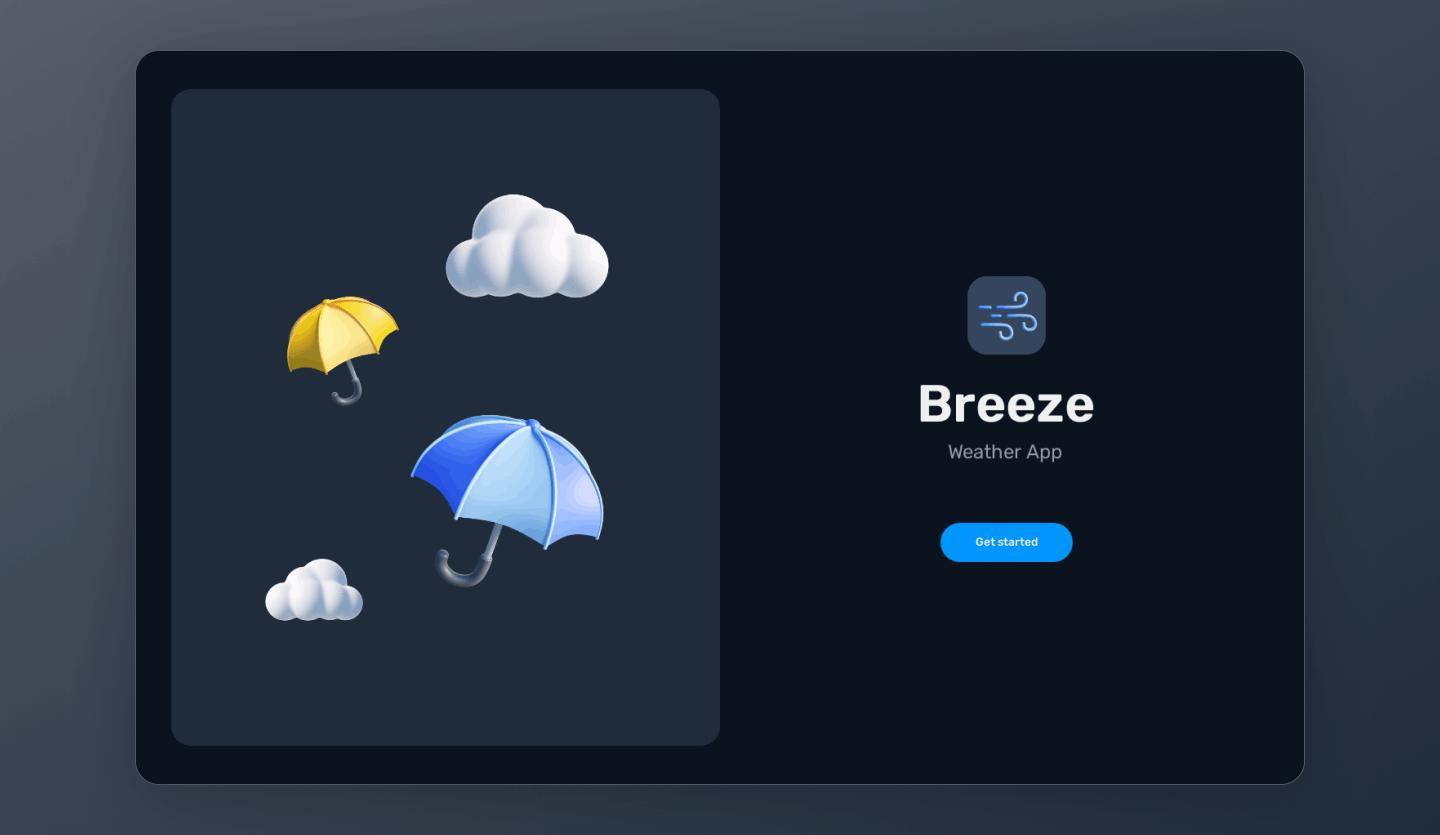button: (939, 520, 1075, 570)
